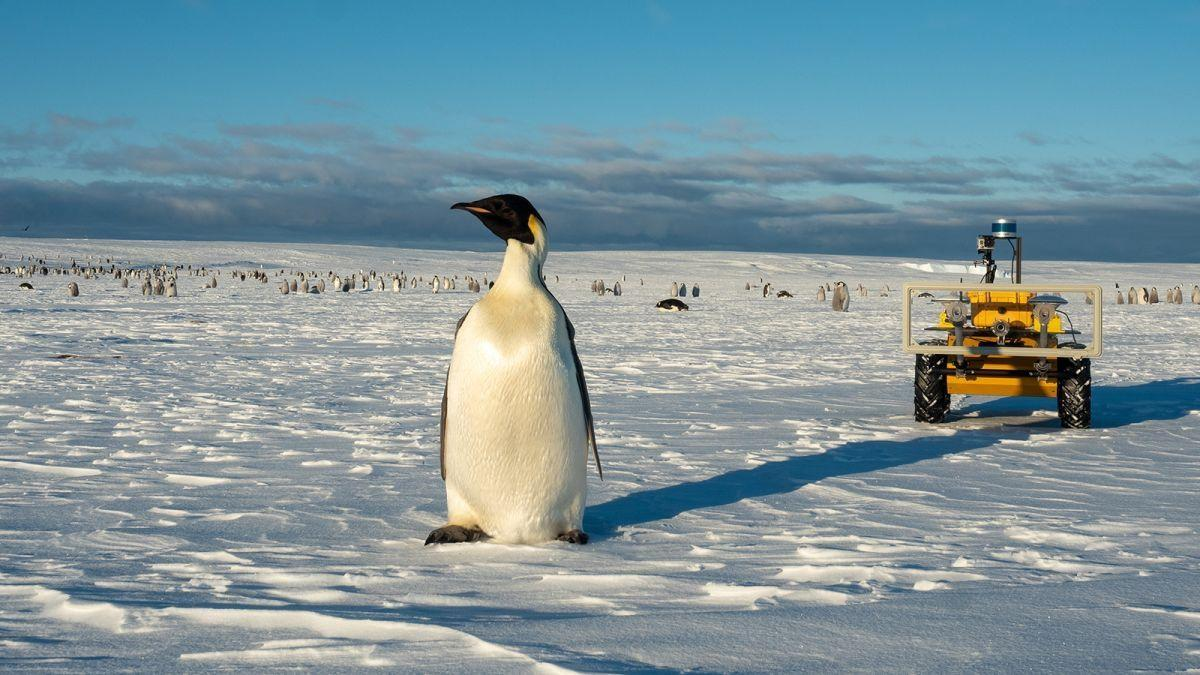Penguin: (427, 195, 600, 544), (832, 279, 848, 313), (656, 298, 688, 312), (153, 278, 164, 295), (1191, 284, 1200, 304), (595, 278, 604, 296), (1139, 287, 1148, 305), (68, 280, 78, 296), (279, 279, 289, 295), (1128, 287, 1137, 304), (167, 282, 177, 297), (431, 275, 439, 293), (1175, 286, 1183, 304), (1150, 286, 1158, 303), (1166, 287, 1174, 304), (142, 279, 151, 294), (301, 279, 310, 293), (392, 276, 400, 291), (775, 290, 792, 297), (817, 284, 824, 301), (1114, 291, 1123, 304), (916, 292, 935, 298), (442, 276, 450, 290), (614, 279, 621, 295), (680, 283, 688, 297), (19, 282, 34, 289), (671, 281, 678, 296), (290, 279, 298, 292), (310, 284, 320, 294), (763, 283, 770, 297), (361, 277, 369, 289), (400, 269, 405, 288), (210, 276, 217, 288), (318, 278, 324, 292), (334, 275, 340, 289), (378, 276, 384, 290), (472, 278, 478, 292), (467, 277, 473, 291), (343, 278, 349, 291), (591, 279, 597, 292), (693, 283, 699, 296), (122, 276, 129, 287), (328, 271, 335, 282), (351, 274, 355, 290), (488, 281, 495, 290), (166, 276, 176, 282), (411, 276, 416, 288), (745, 281, 751, 291), (201, 283, 211, 288), (451, 279, 455, 289)
